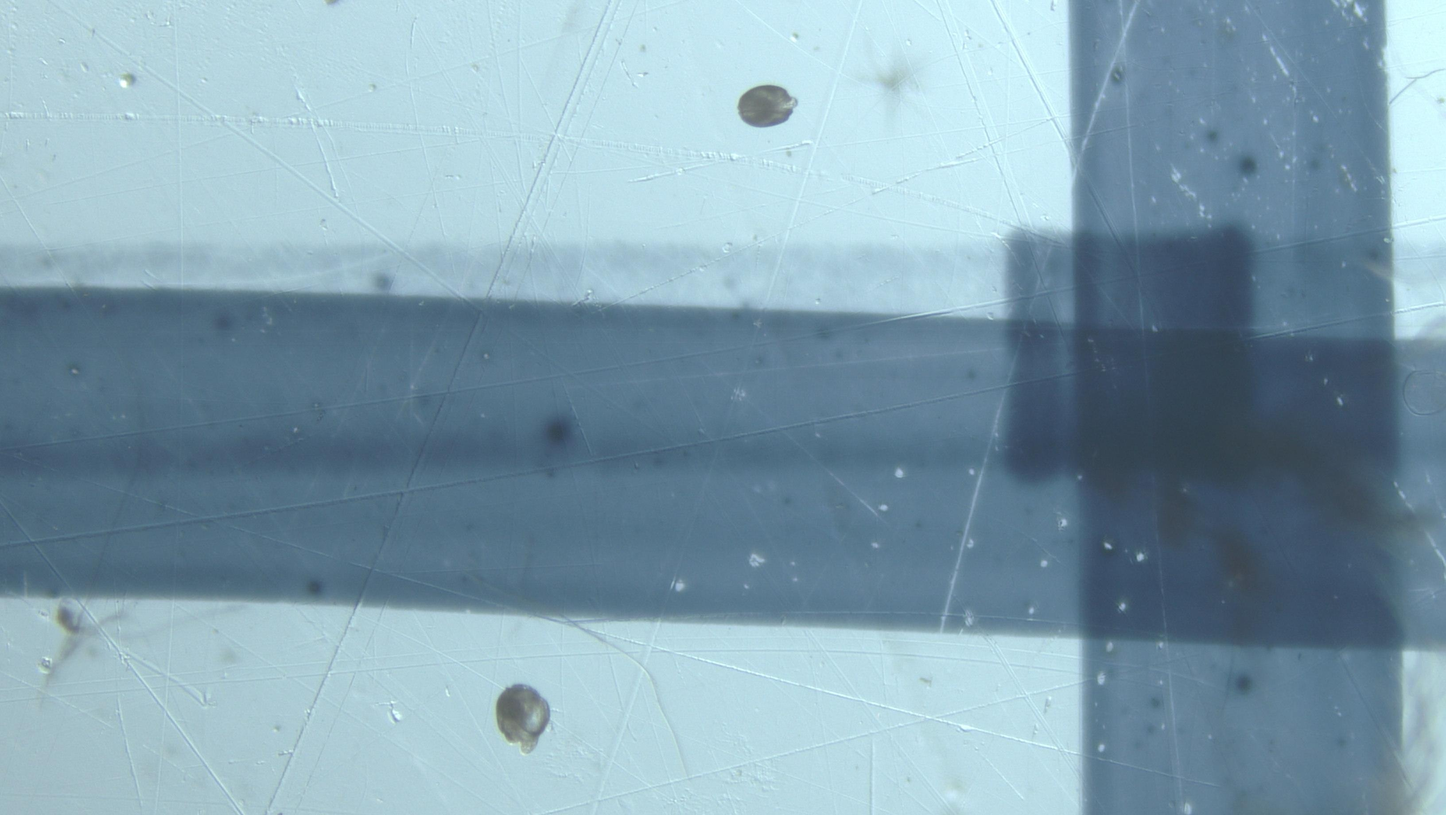live: (494, 683, 551, 754), (738, 85, 798, 128)
